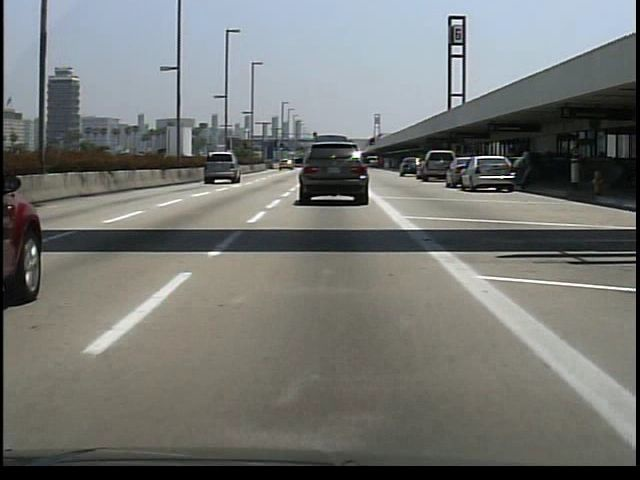person: (513, 147, 539, 190)
